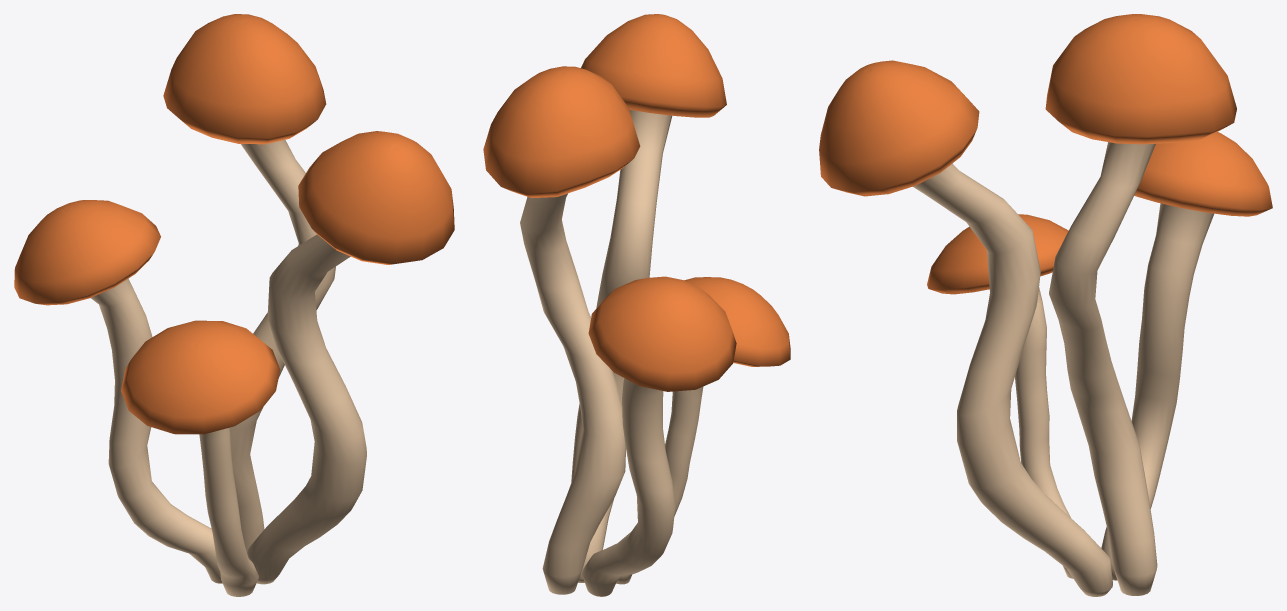
File: Setas3.fbx
3 renders of one model, left to right at view 1: azimuth 30°, elevation 25°; view 2: azimuth 150°, elevation 25°; view 3: azimuth 270°, elevation 25°, orthographic. The views are drawn at different scales.
Parts seen in each view (by area): view 1: Seta1, Seta2, Seta3, Seta4; view 2: Seta2, Seta3, Seta1, Seta4; view 3: Seta2, Seta1, Seta3, Seta4.
Part boxes in pixels (x1,y1,x2,y2): Seta1: (248, 131, 454, 584); Seta2: (163, 14, 335, 555); Seta3: (14, 200, 222, 583); Seta4: (121, 320, 280, 596); Seta2: (483, 66, 640, 594); Seta3: (582, 276, 736, 596); Seta1: (571, 14, 726, 582); Seta4: (616, 277, 790, 584); Seta2: (1045, 14, 1236, 595); Seta1: (819, 60, 1112, 596); Seta3: (1101, 132, 1272, 580); Seta4: (927, 214, 1072, 578).
Size of the model in its own units: 1.35 by 1.77 by 2.47.
